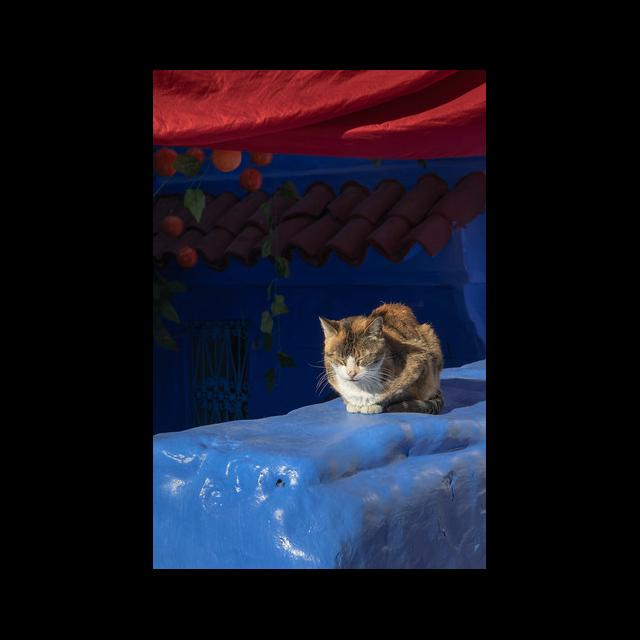animals: (319, 304, 443, 414)
